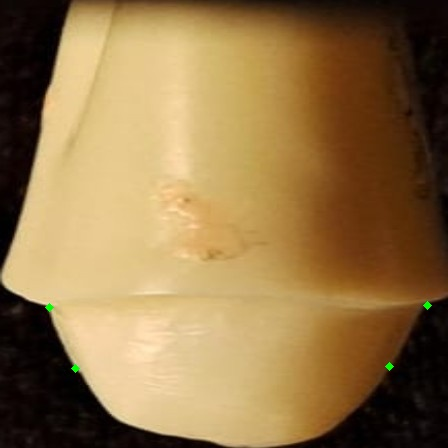coin_1: (49, 307, 69, 327)
coin_2: (75, 368, 95, 388)
coin_3: (427, 305, 447, 325)
coin_4: (389, 366, 409, 386)
